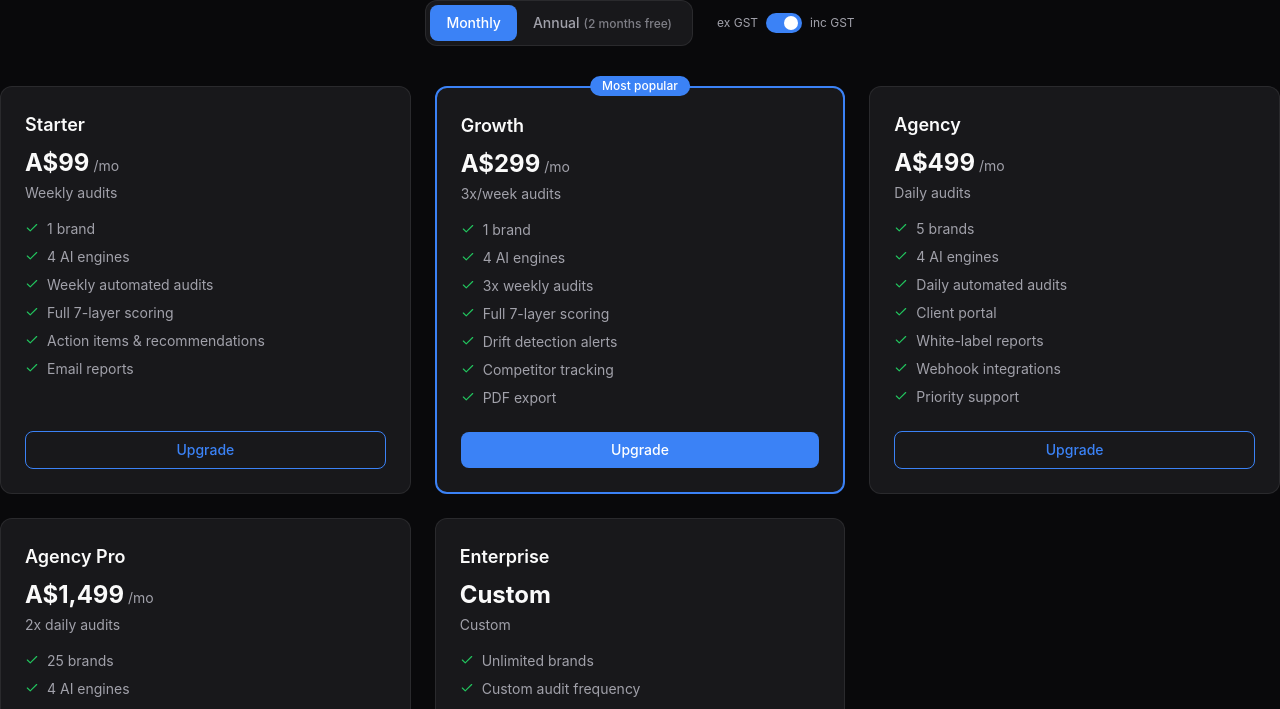
Test: PricingTableClient — checkout failure shows an error, doesn't sign the user out › 500 from the checkout API → inline error shown, no redirect to /sign-in
What coordinates should you click on to do the following:
click the button "Upgrade" below "Email reports"
I would click on:
 (205, 450)
Its box is [25,431,386,469].
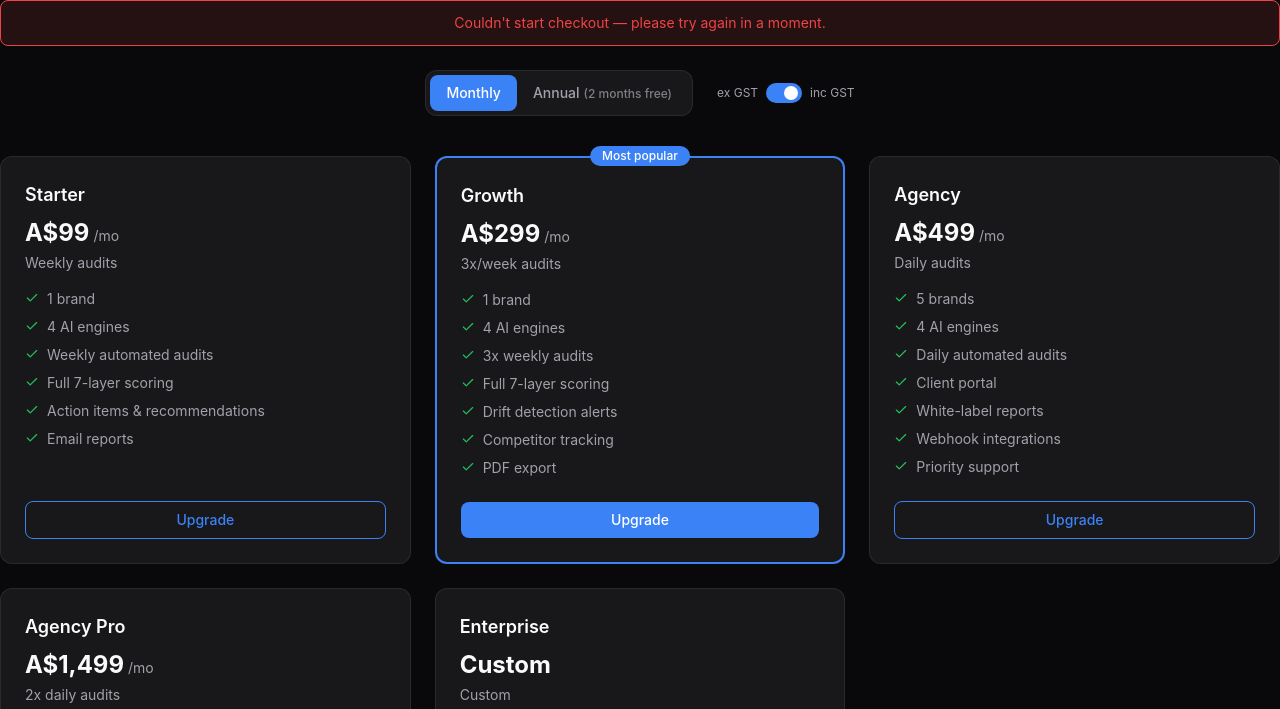
Check: the message shows "Couldn't start checkout", box [454,14,826,31]
